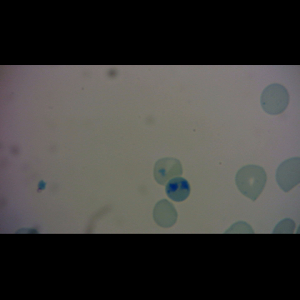aggregate reticulocyte: (165, 175, 191, 203)
erythrocyte: (275, 155, 300, 195), (153, 157, 185, 187), (151, 198, 179, 230)
punctate reticulocyte: (235, 164, 268, 203), (260, 83, 290, 116)
